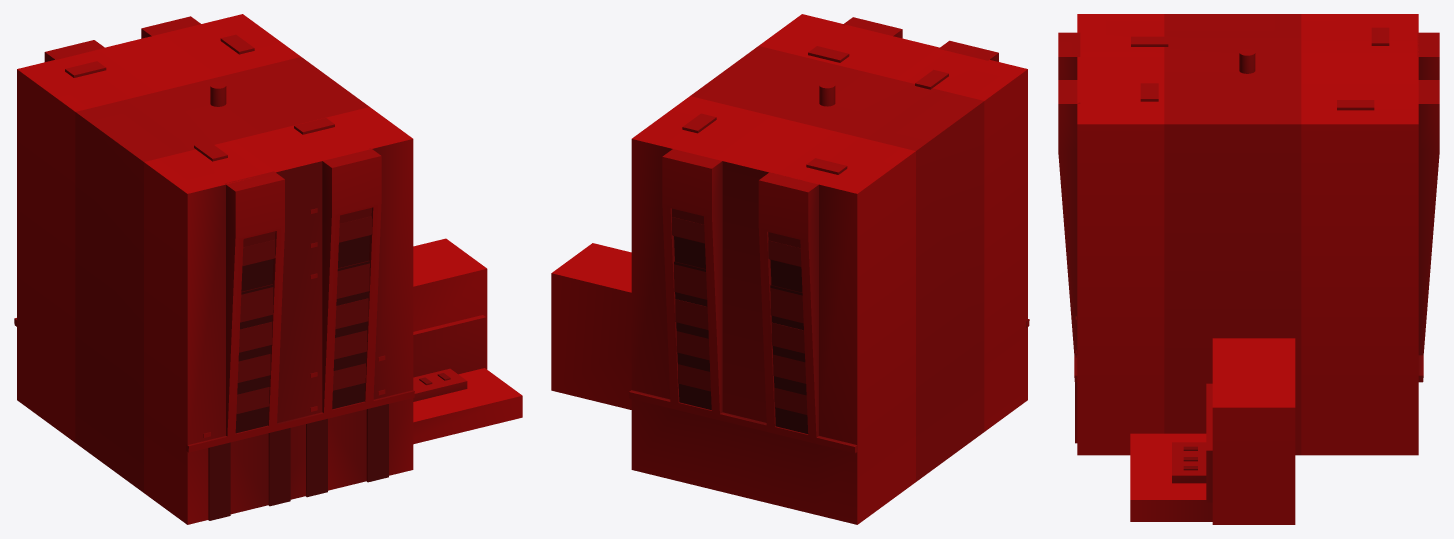
The model's file is buildings-industrial-vab_v1.fbx.
3 renders of one model, left to right at view 1: azimuth 30°, elevation 25°; view 2: azimuth 150°, elevation 25°; view 3: azimuth 270°, elevation 25°, orthographic.
Visible parts, largest first — view 1: VAB.001; view 2: VAB.001; view 3: VAB.001.
Boxes of the visible parts, box(x1,y1,x2,y2) form: VAB.001: box(14, 14, 522, 524); VAB.001: box(551, 14, 1029, 524); VAB.001: box(1058, 14, 1439, 524).
Size of the model in its own units: 14 by 12.72 by 12.58.
